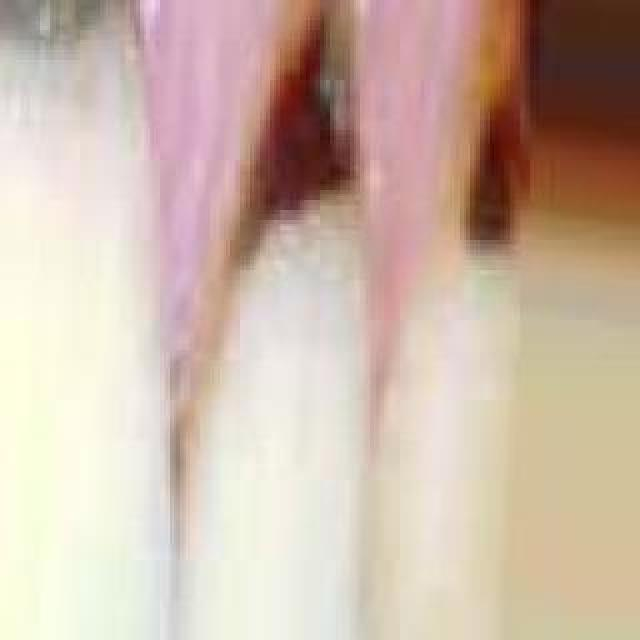cavities: (245, 25, 345, 235), (0, 10, 106, 100), (475, 70, 515, 246)
